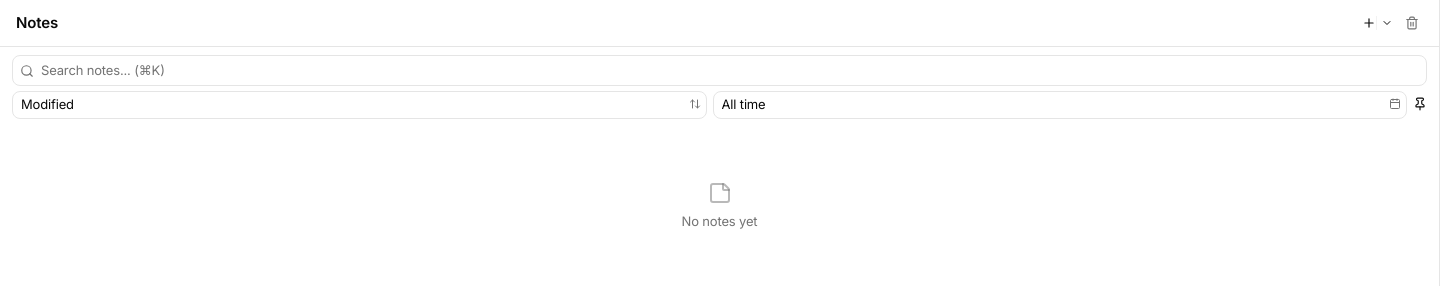
Scenario: <NoteList /> › closes the template dropdown after selecting a template
Step 1. Click the button named "new note from template" → (1387, 23), box [1377,17,1397,29]
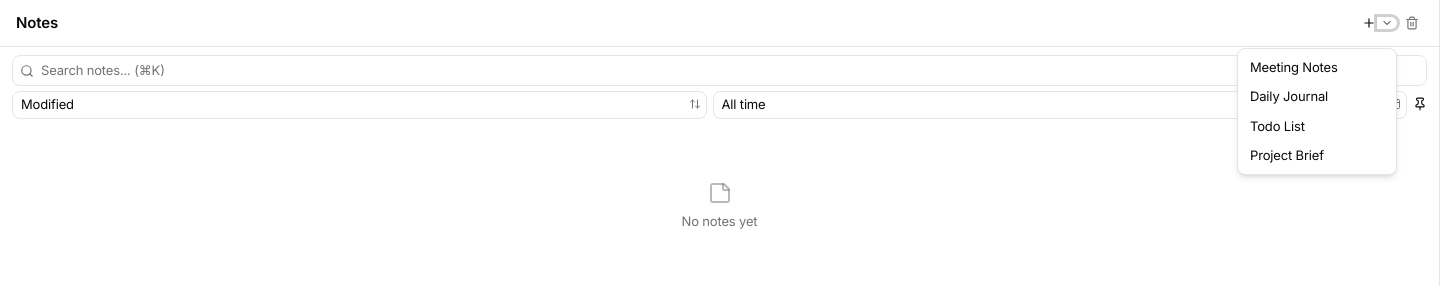
Step 2. Click the button "Meeting Notes" → (1317, 68), box [1238,53,1396,82]
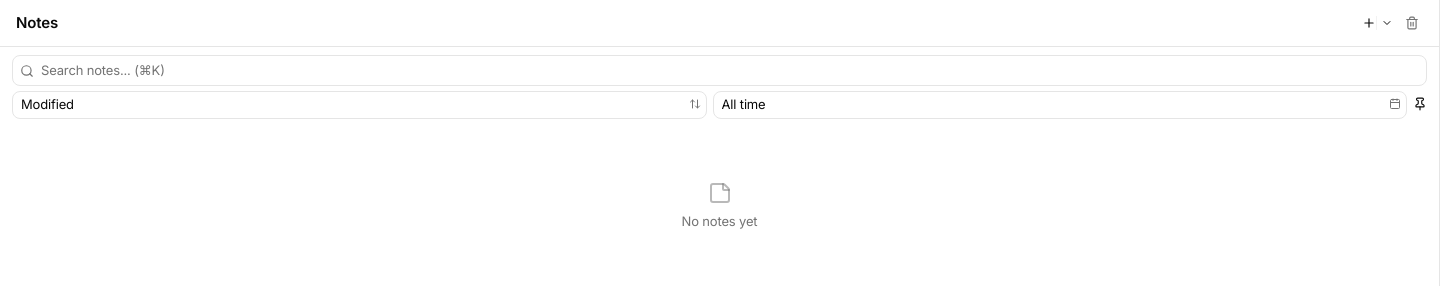
Expected: the button "Daily Journal" is gone
